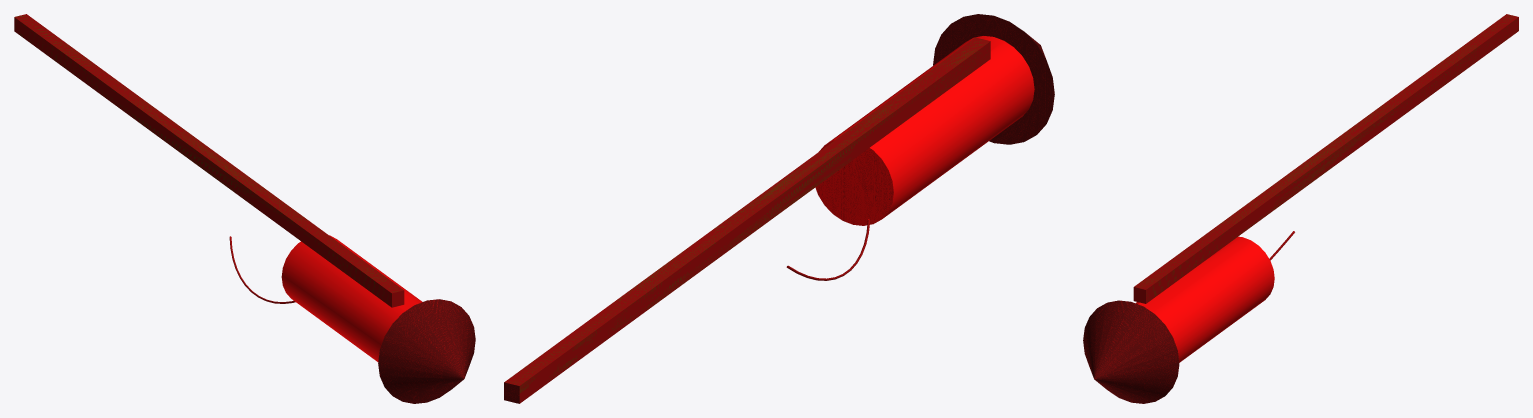
Rendered from rocket.obj.
The picture shows the model from 3 angles, left to right: view 1: azimuth 30°, elevation 25°; view 2: azimuth 150°, elevation 25°; view 3: azimuth 330°, elevation 25°; orthographic projection. The views are drawn at different scales.
Bounding box in the file's own units: 11.81 × 11.81 × 90.94.
